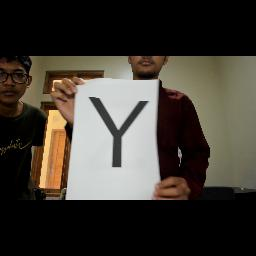y: (84, 92, 152, 172)
